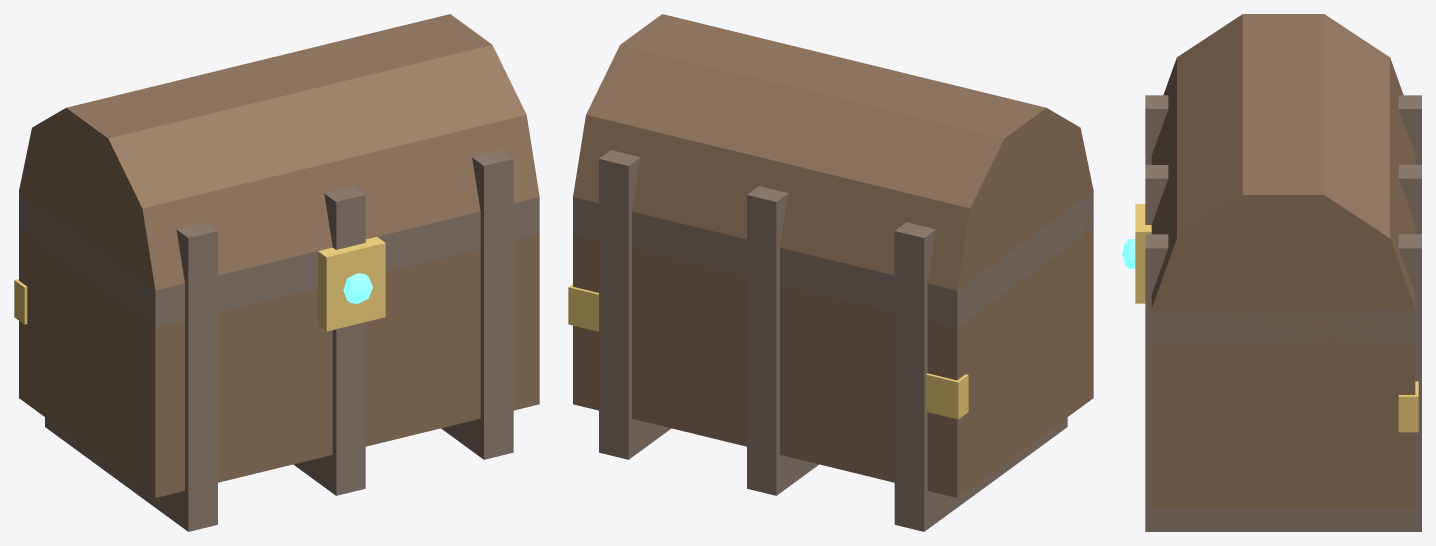
Rendered from item_treasure_chest.glb.
3 renders of one model, left to right at view 1: azimuth 30°, elevation 25°; view 2: azimuth 150°, elevation 25°; view 3: azimuth 270°, elevation 25°, orthographic. The views are drawn at different scales.
Visible parts, largest first — view 1: item_treasure_chest_wood, item_treasure_chest_metal, item_treasure_chest_gold, item_treasure_chest_glow; view 2: item_treasure_chest_wood, item_treasure_chest_metal, item_treasure_chest_gold; view 3: item_treasure_chest_wood, item_treasure_chest_metal, item_treasure_chest_gold.
Part boxes in pixels (box(x1,y1,x2,y2)): item_treasure_chest_wood: box(19, 14, 539, 497); item_treasure_chest_metal: box(19, 150, 539, 531); item_treasure_chest_gold: box(14, 237, 385, 331); item_treasure_chest_glow: box(343, 273, 372, 303); item_treasure_chest_wood: box(573, 14, 1093, 497); item_treasure_chest_metal: box(573, 150, 1093, 531); item_treasure_chest_gold: box(568, 284, 968, 419); item_treasure_chest_wood: box(1151, 14, 1415, 508); item_treasure_chest_metal: box(1145, 95, 1421, 531); item_treasure_chest_gold: box(1135, 204, 1418, 432).
Size of the model in its own units: 1.32 by 1.18 by 0.91.
